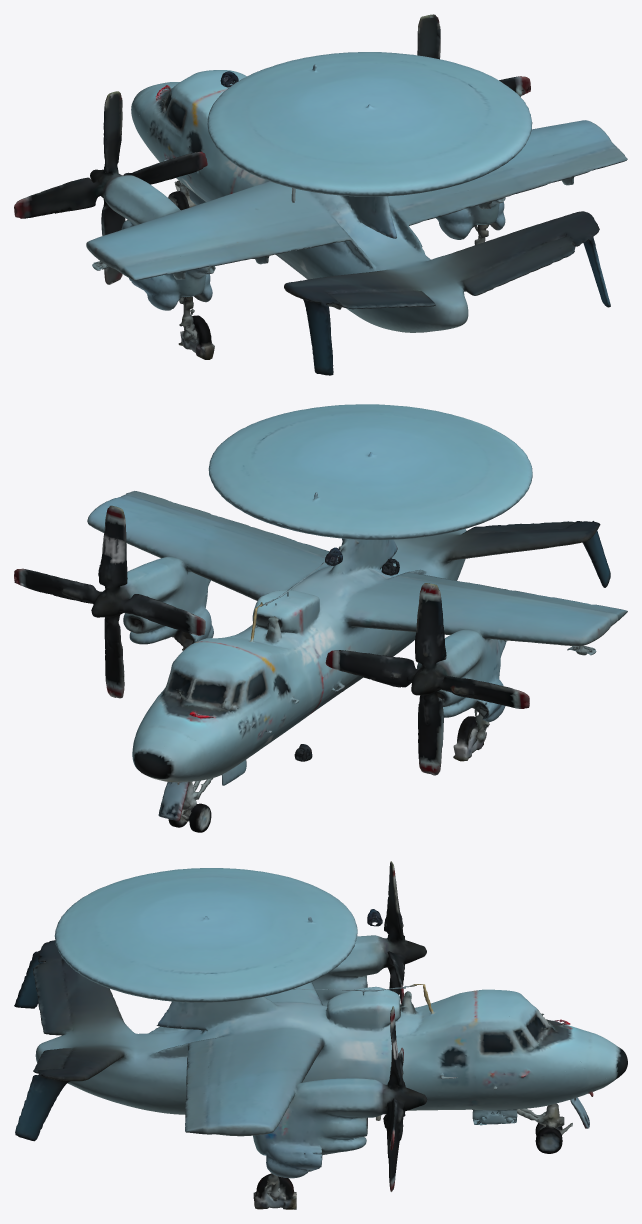
3 views of the same model, one above another, from view 1: azimuth 30°, elevation 25°; view 2: azimuth 150°, elevation 25°; view 3: azimuth 270°, elevation 25° (orthographic). The views are drawn at different scales.
Bounding box in the file's own units: 16.93 × 7.64 × 18.4.
